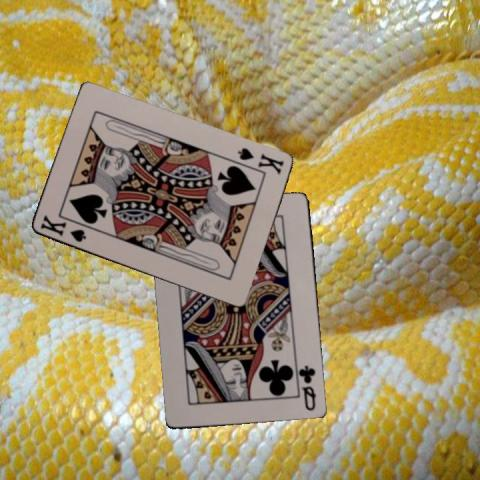Ks: (37, 212, 87, 244), (234, 145, 285, 176)
Qc: (297, 363, 318, 412)
